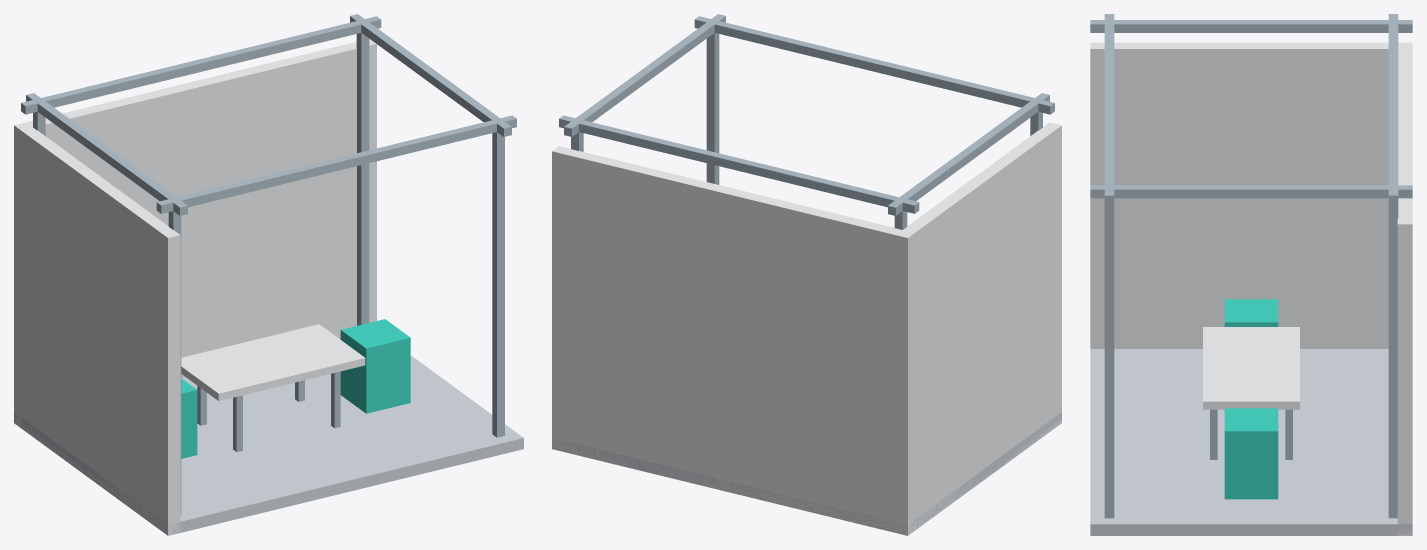
3 views of the same model, side by side, from view 1: azimuth 30°, elevation 25°; view 2: azimuth 150°, elevation 25°; view 3: azimuth 270°, elevation 25° (orthographic). The views are drawn at different scales.
Visible parts, largest first — view 1: Exhibition Booth Concept; view 2: Exhibition Booth Concept; view 3: Exhibition Booth Concept.
Part boxes in pixels (x1,y1,x2,y2): Exhibition Booth Concept: (14, 14, 523, 535); Exhibition Booth Concept: (552, 14, 1061, 535); Exhibition Booth Concept: (1090, 14, 1412, 535).
Bounding box in the file's own units: 4 × 3.49 × 3.
